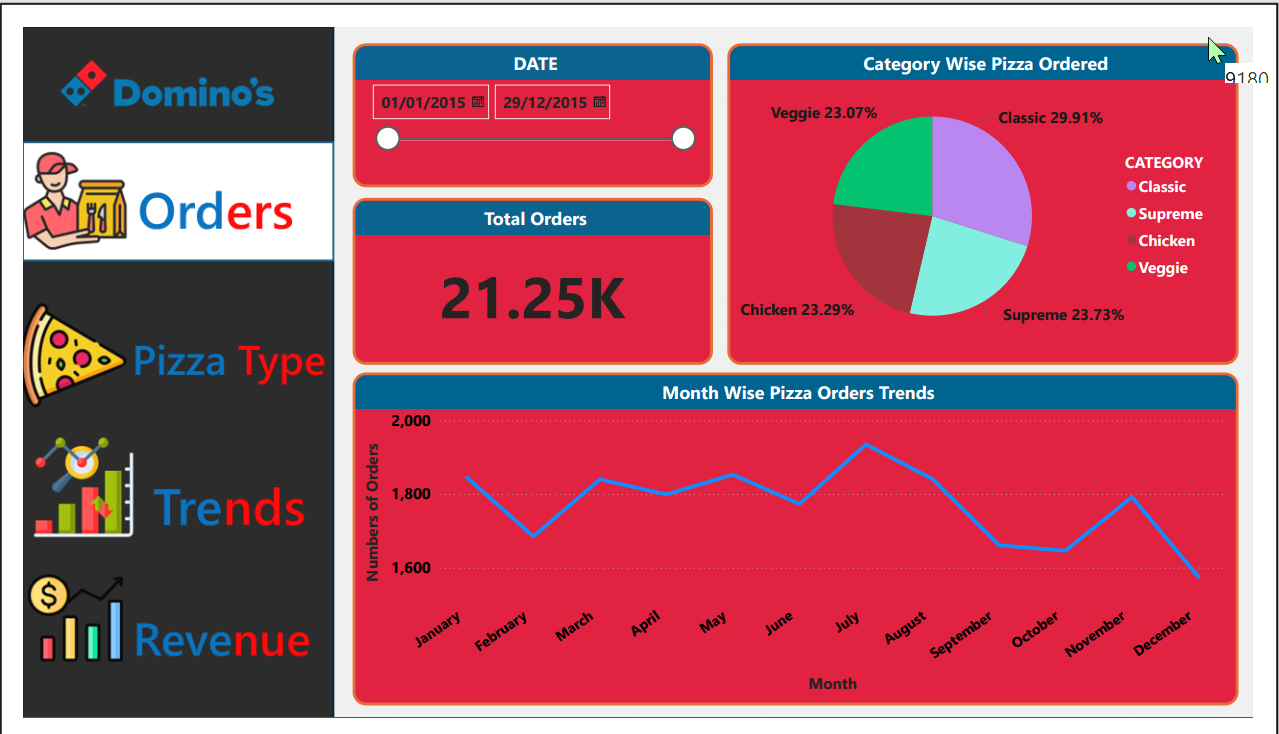

This screenshot's page, from the dashboard's own definition file:
{"tool":"powerbi","page":{"name":"Orders","canvas":[1280,720],"ordinal":0},"visuals":[{"type":"slicer","title":"DATE","fields":{"Values":["sales orders.ORDER_DATE"]},"box":[343.3,16.7,375,150],"z":0},{"type":"lineChart","title":"Month Wise Pizza Orders Trends","fields":{"Category":["sales orders.ORDER_DATE.Variation.Date Hierarchy.Month","sales orders.ORDER_DATE.Variation.Date Hierarchy.Day"],"Y":["CountNonNull(sales orders.ORDER_ID)"]},"box":[343.3,360,921.7,346.7],"z":1000},{"type":"pieChart","title":"Category Wise Pizza Ordered","fields":{"Category":["sales category_totalquanity.CATEGORY"],"Y":["Sum(sales category_totalquanity.TOTALQUANTITY)"]},"box":[733.3,16.7,531.7,335],"z":2000},{"type":"card","title":"Total Orders","fields":{"Values":["Count(sales orders.ORDER_ID)"]},"box":[343.3,178.3,375,173.3],"z":3000},{"type":"actionButton","box":[28.3,291.7,330,116.7],"z":4000},{"type":"actionButton","box":[28.3,430,330,116.7],"z":5000},{"type":"actionButton","box":[30,575,330,116.7],"z":6000}]}

Visuals, with their boxes in screenshot pixels (x1, y1, x2, y2), scaled from the page's 1280x720 canvas onto the 1279x734 screenshot:
"DATE" slicer: l=343, t=17, r=718, b=170
"Month Wise Pizza Orders Trends" lineChart: l=343, t=367, r=1264, b=720
"Category Wise Pizza Ordered" pieChart: l=733, t=17, r=1264, b=359
"Total Orders" card: l=343, t=182, r=718, b=358
actionButton: l=28, t=297, r=358, b=416
actionButton: l=28, t=438, r=358, b=557
actionButton: l=30, t=586, r=360, b=705
